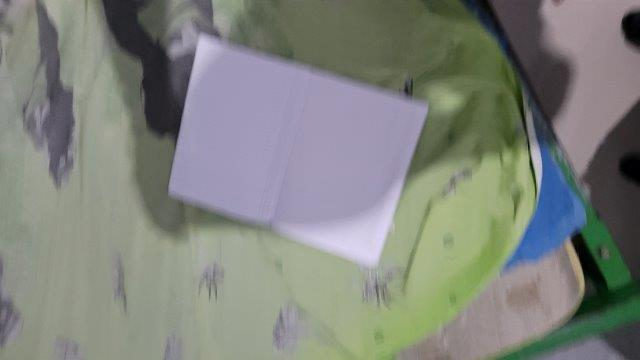kertas: (165, 33, 429, 268)
